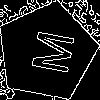M: (22, 27, 75, 76)
